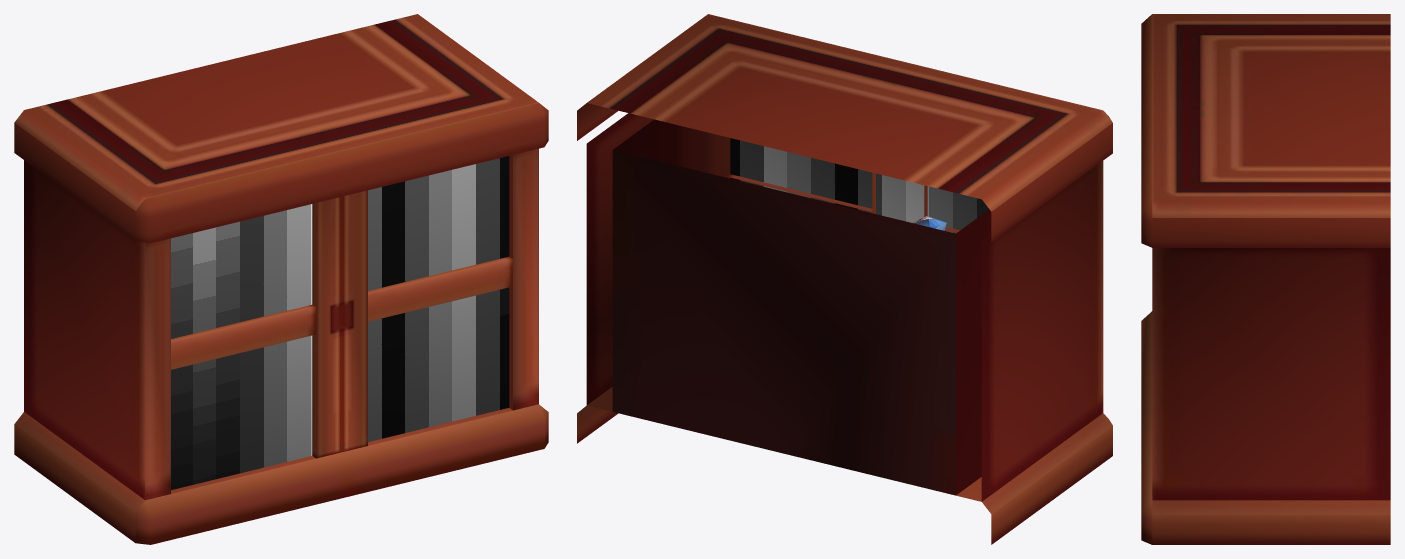
File: rmk_chc_shelf_wall.dae
3 renders of one model, left to right at view 1: azimuth 30°, elevation 25°; view 2: azimuth 150°, elevation 25°; view 3: azimuth 270°, elevation 25°, orthographic.
Visible parts, largest first — view 1: bs_j_0_0, bs_j_1_0; view 2: bs_j_0_0, bs_j_1_0; view 3: bs_j_0_0.
Part boxes in pixels (<box>): bs_j_0_0: <box>14,14,548,544</box>; bs_j_1_0: <box>171,156,509,489</box>; bs_j_0_0: <box>577,14,1112,544</box>; bs_j_1_0: <box>730,138,988,233</box>; bs_j_0_0: <box>1141,14,1390,544</box>.
Size of the model in its own units: 27.15 by 21.48 by 14.42.
Materials: 3 (3 with a texture image).
